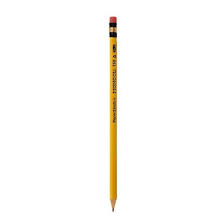Lapiz: (98, 13, 134, 213)
